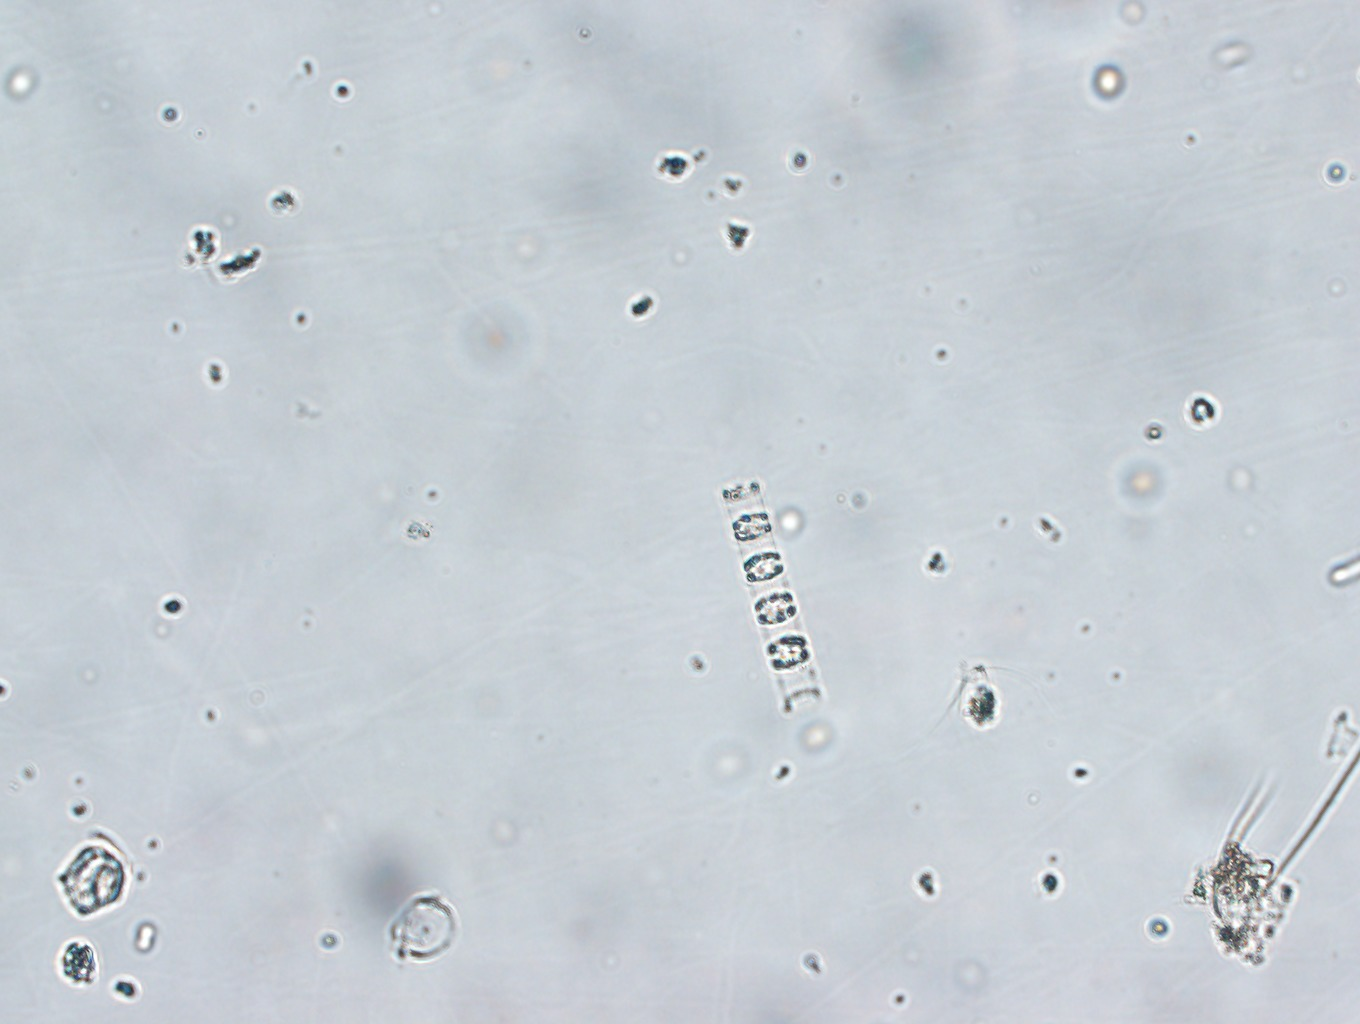skeletonema: (721, 482, 825, 715)
